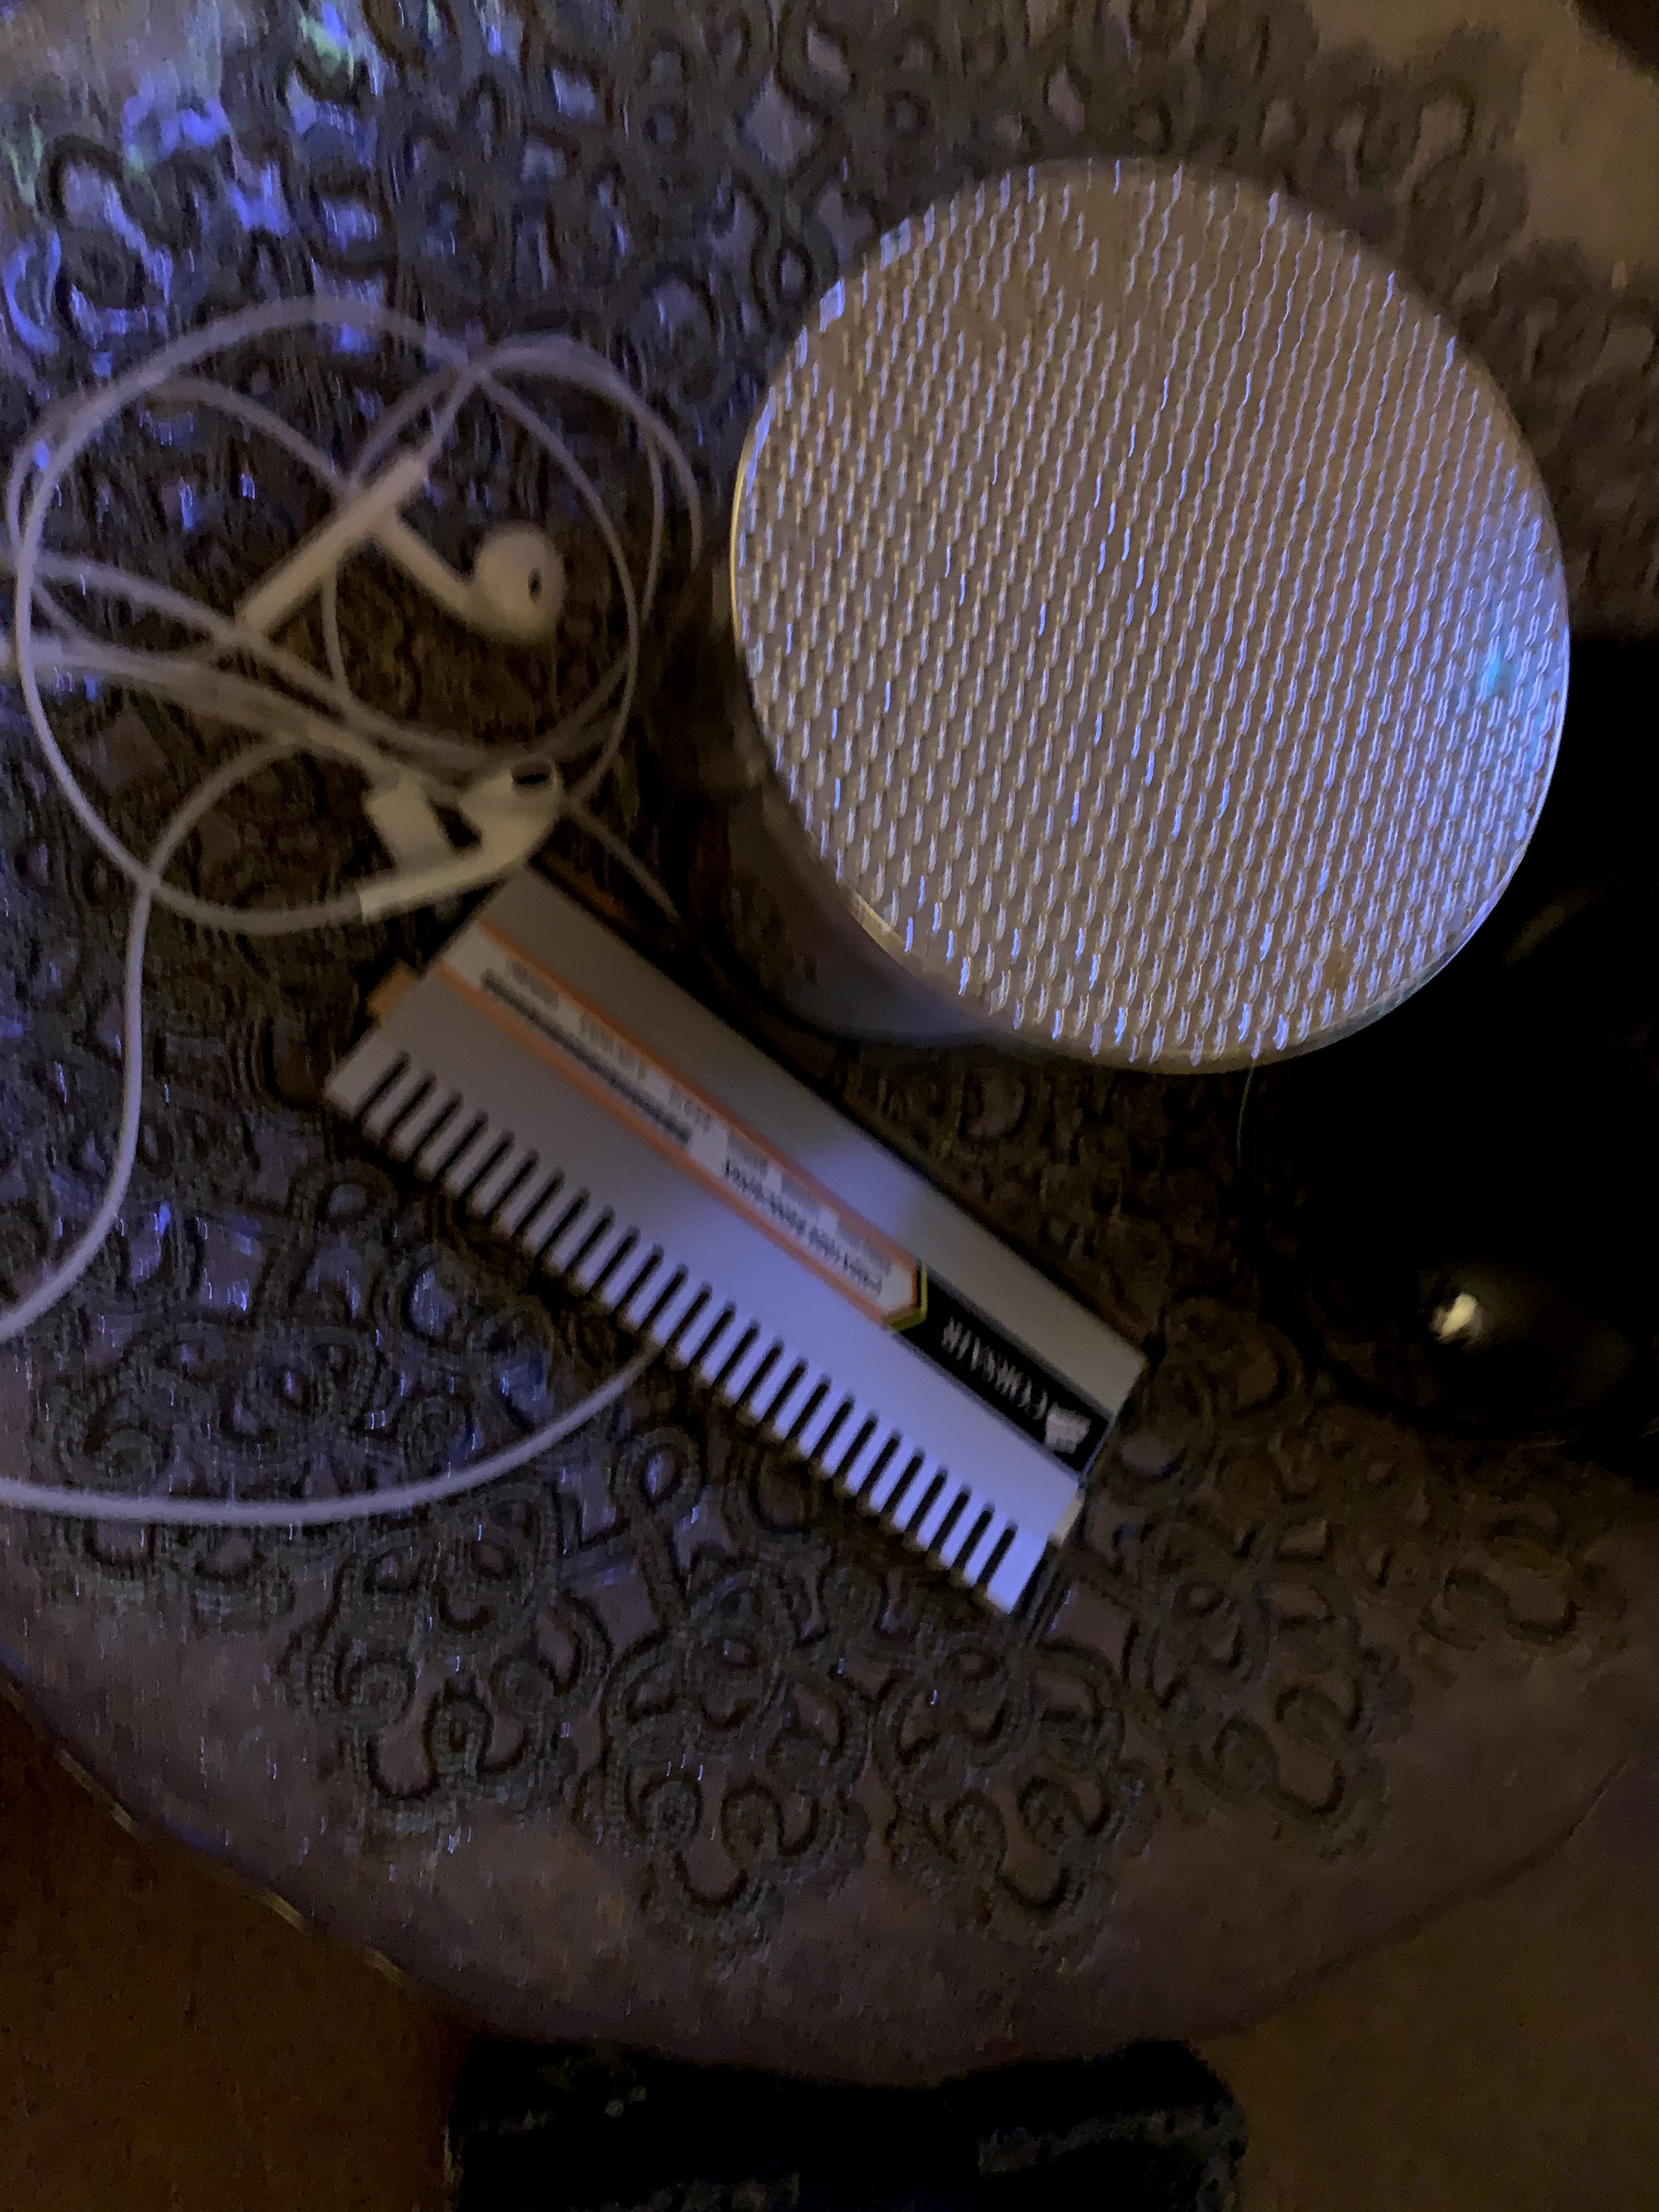Space-debris-medium: (308, 812, 1190, 1670)
